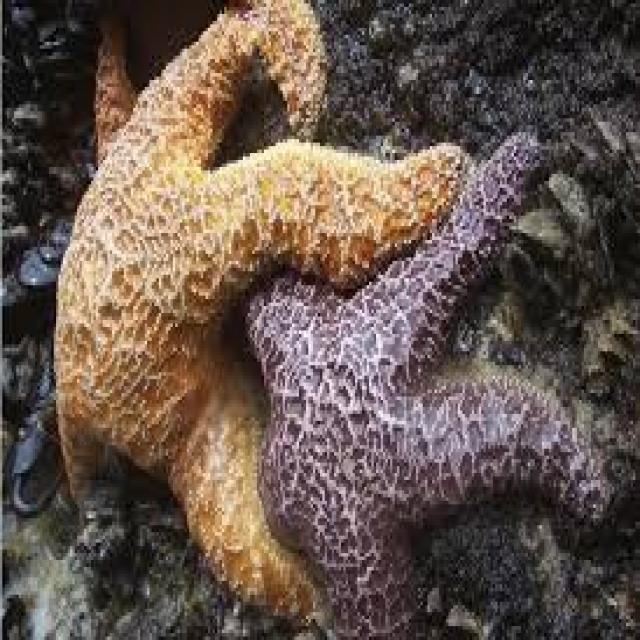starfish: (54, 0, 467, 616), (248, 132, 612, 633)
